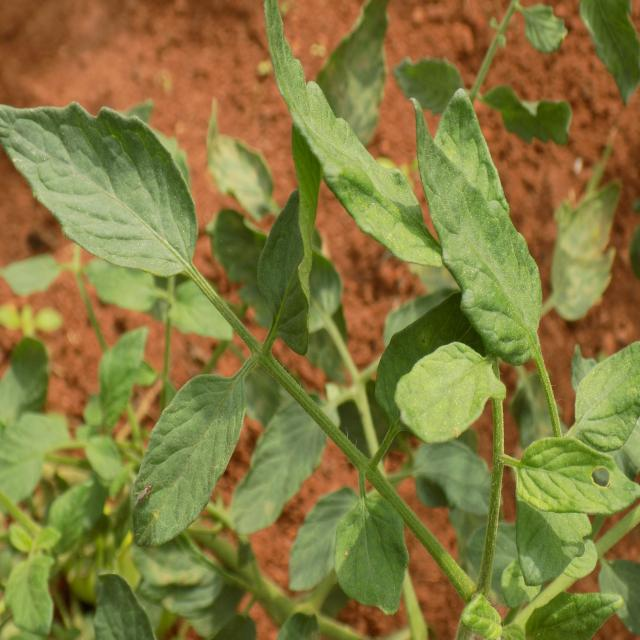tomato_healthy: (413, 88, 548, 363), (0, 101, 198, 286), (129, 366, 245, 547), (222, 384, 338, 539), (508, 426, 640, 515), (399, 340, 496, 442), (337, 491, 414, 613)
